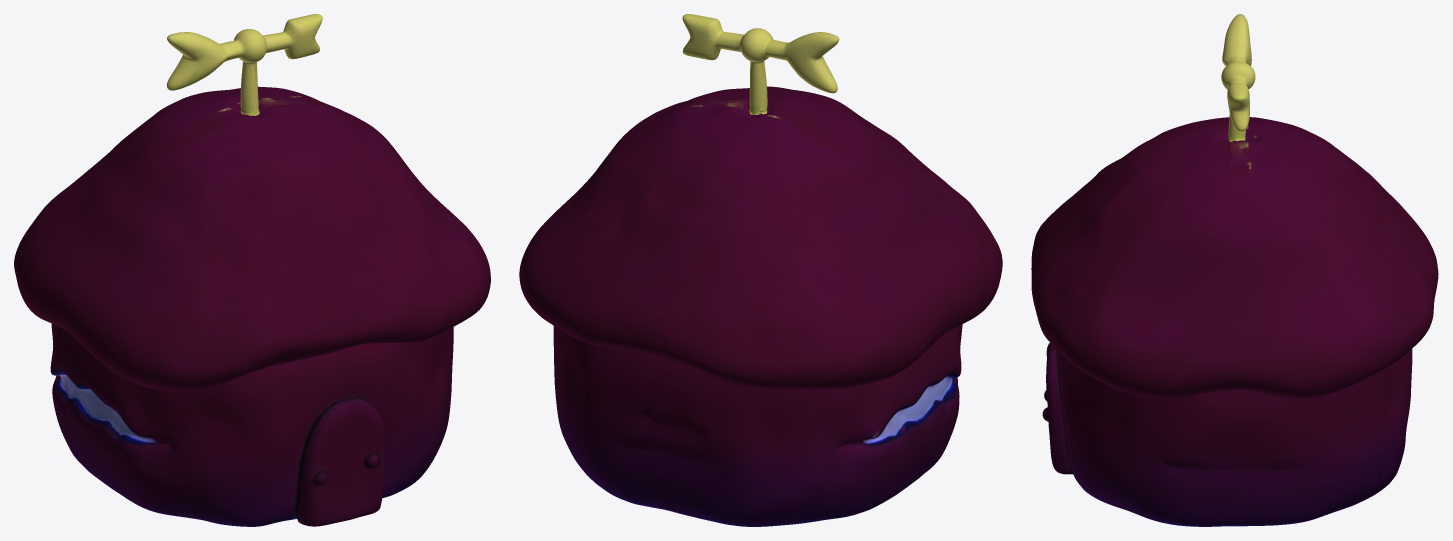
The model's file is patrick-house-web.glb.
The picture shows the model from 3 angles, left to right: view 1: azimuth 30°, elevation 25°; view 2: azimuth 150°, elevation 25°; view 3: azimuth 270°, elevation 25°; orthographic projection. The views are drawn at different scales.
Visible parts, largest first — view 1: textured; view 2: textured; view 3: textured.
Part boxes in pixels (x1,y1,x2,y2): textured: [14, 14, 490, 526]; textured: [519, 14, 1002, 526]; textured: [1031, 14, 1438, 526].
Size of the model in its own units: 1.84 by 1.99 by 1.79.
1 material, 1 textured.
